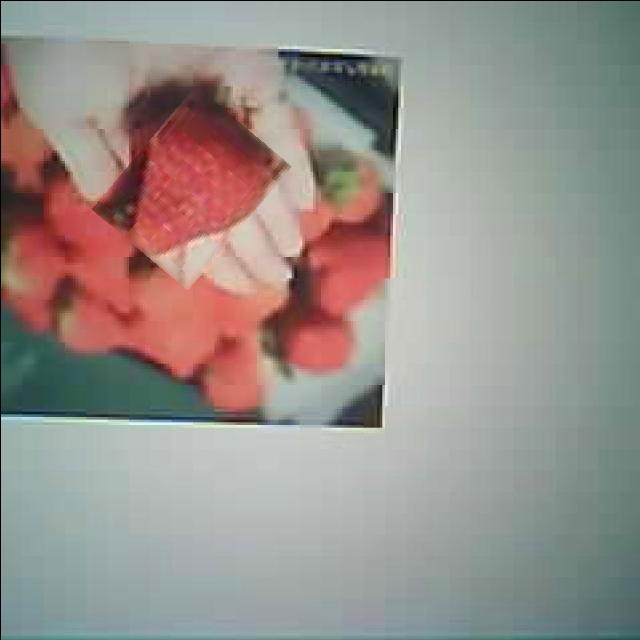strawberry: (110, 95, 273, 278)
